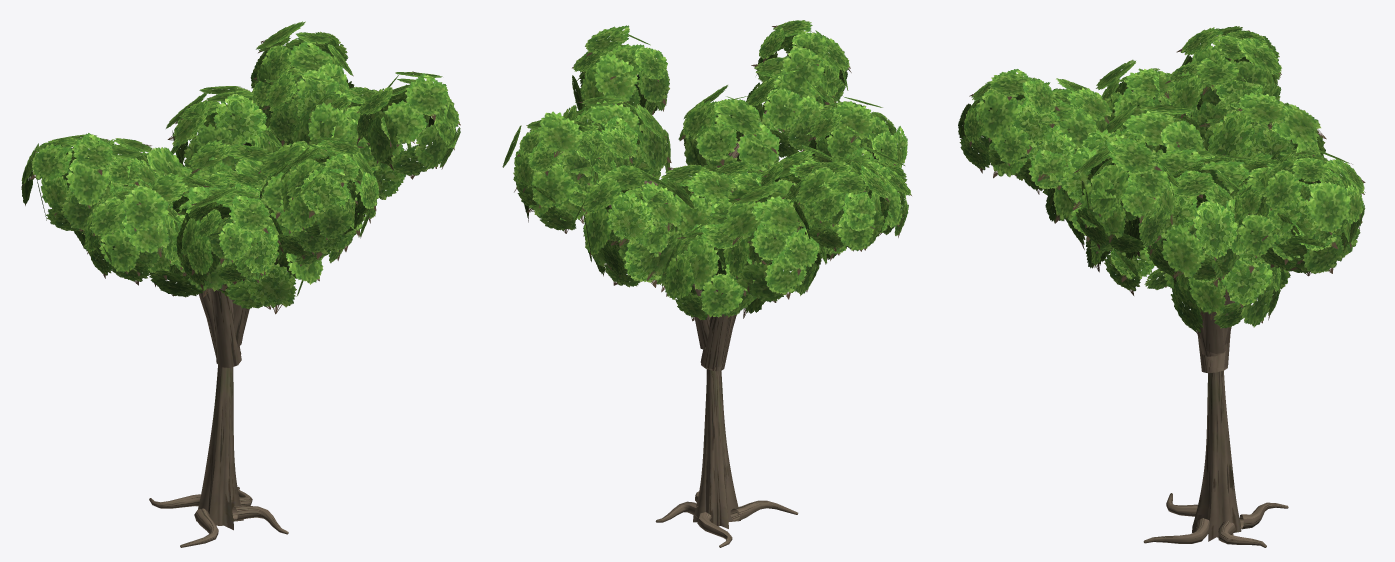
The picture shows the model from 3 angles, left to right: view 1: azimuth 30°, elevation 25°; view 2: azimuth 150°, elevation 25°; view 3: azimuth 270°, elevation 25°; orthographic projection. The views are drawn at different scales.
Visible parts, largest first — view 1: BigTree-forest-c; view 2: BigTree-forest-c; view 3: BigTree-forest-c.
Part boxes in pixels (bbox=[...]): BigTree-forest-c: bbox=[21, 21, 460, 547]; BigTree-forest-c: bbox=[502, 20, 911, 547]; BigTree-forest-c: bbox=[958, 26, 1365, 547].
Size of the model in its own units: 17.67 by 19.5 by 16.13.
Materials: 1 (1 with a texture image).
